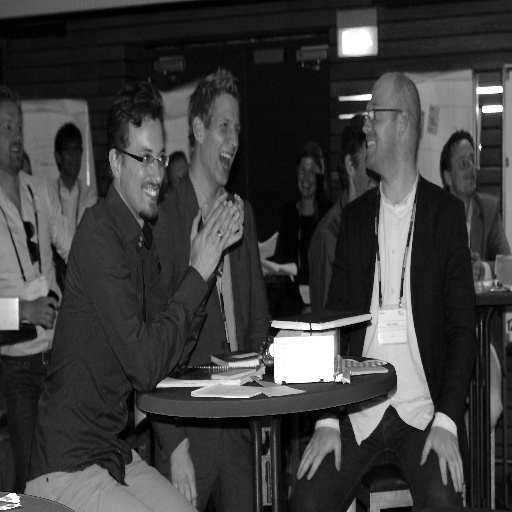hand: (187, 199, 235, 283), (294, 426, 343, 485), (204, 190, 245, 253), (430, 425, 466, 492), (169, 443, 198, 510), (27, 293, 59, 333), (471, 252, 482, 281), (312, 157, 325, 175)
